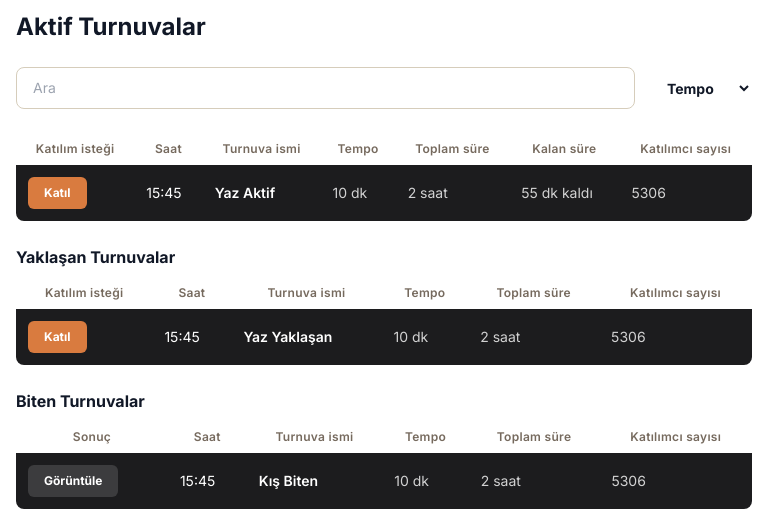
Test: Turnuva Lobisi — /play/tournament/lobby › Yaklaşan ve Biten turnuvalar (Zafer: "ekle tabiki çok önemli") › arama/tempo filtresi ÜÇ bölümü de aynı anda filtreler
Check: the text "Yaz Aktif" is shown, box [203,165,320,221]
Type "yaz" into the field with placeholder "Ara" at [326, 88], box [16,67,635,109]
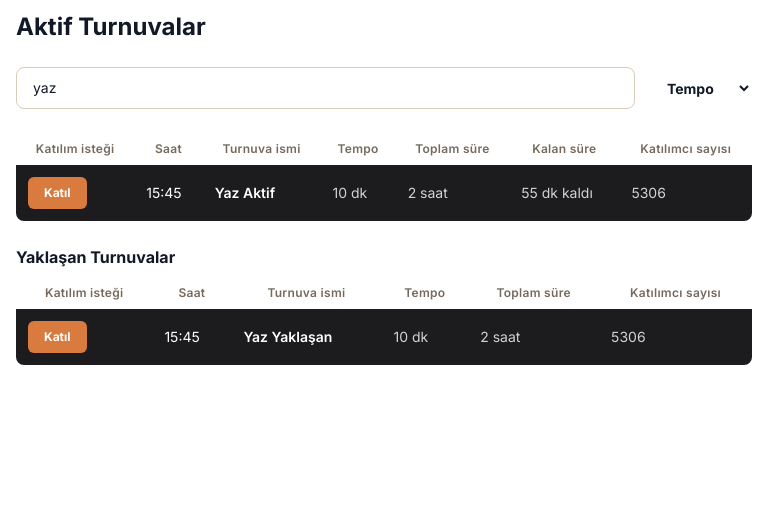
Check: the text "Yaz Aktif" is shown, box [203,165,320,221]
Check: the text "Kış Biten" is gone
